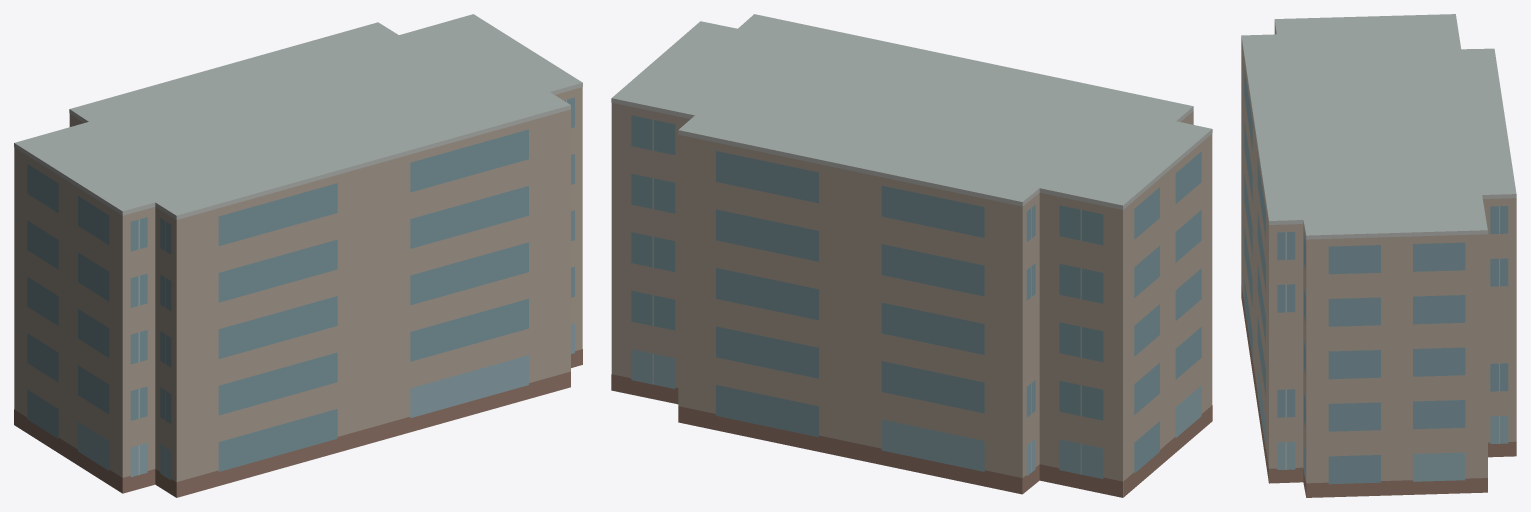
File: survey-upis-32701670.glb
3 views of the same model, side by side, from view 1: azimuth 30°, elevation 25°; view 2: azimuth 150°, elevation 25°; view 3: azimuth 270°, elevation 25° (orthographic). The views are drawn at different scales.
Parts seen in each view (by area): view 1: survey-upis-32701670.tmp; view 2: survey-upis-32701670.tmp; view 3: survey-upis-32701670.tmp.
Part boxes in pixels (x1,y1,x2,y2): survey-upis-32701670.tmp: (14,14,582,497); survey-upis-32701670.tmp: (611,14,1212,497); survey-upis-32701670.tmp: (1241,14,1516,497).
Bounding box in the file's own units: 28.9 × 15.95 × 15.17.
